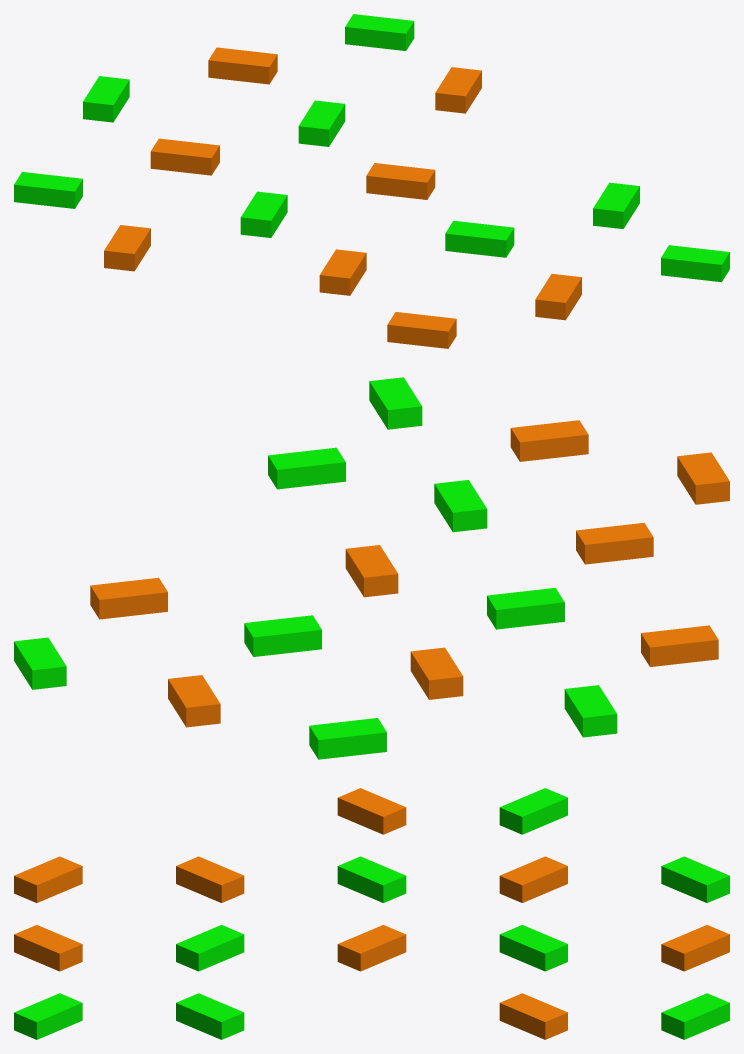
File: bekkering_small_v1.dae
3 views of the same model, one above another, from view 1: azimuth 30°, elevation 25°; view 2: azimuth 150°, elevation 25°; view 3: azimuth 270°, elevation 25° (orthographic). The views are drawn at different scales.
Parts seen in each view (by area): view 1: Cube.019, Cube.020, Cube.018, Cube.017, Cube.023, Cube.021, Cube.022, Cube.014, Cube.002, Cube.007, Cube.011, Cube.001 (+4 smaller); view 2: Cube.015, Cube.009, Cube.010, Cube.002, Cube.011, Cube.007, Cube.024, Cube.001, Cube.022, Cube.014, Cube.019, Cube.018 (+4 smaller); view 3: Cube.010, Cube.007, Cube.019, Cube.023, Cube.014, Cube.009, Cube.002, Cube.024, Cube.022, Cube.021, Cube.020, Cube.018 (+4 smaller).
Boxes of the visible parts, x1,y1,x2,y2 form: Cube.019: (366, 163, 435, 199); Cube.020: (208, 47, 277, 84); Cube.018: (150, 138, 219, 175); Cube.017: (387, 312, 456, 348); Cube.023: (345, 14, 414, 50); Cube.021: (445, 220, 514, 257); Cube.022: (14, 172, 82, 208); Cube.014: (661, 245, 729, 282); Cube.002: (298, 100, 345, 146); Cube.007: (240, 191, 287, 237); Cube.011: (319, 249, 366, 295); Cube.001: (435, 67, 481, 113); Cube.015: (510, 420, 588, 461); Cube.009: (268, 447, 345, 489); Cube.010: (641, 625, 718, 666); Cube.002: (244, 615, 321, 656); Cube.011: (576, 522, 653, 564); Cube.007: (487, 588, 564, 629); Cube.024: (309, 718, 386, 759); Cube.001: (90, 577, 167, 619); Cube.022: (564, 685, 617, 737); Cube.014: (369, 377, 422, 429); Cube.019: (345, 545, 398, 597); Cube.018: (410, 647, 463, 699); Cube.010: (337, 788, 406, 834); Cube.007: (337, 856, 406, 902); Cube.019: (337, 925, 406, 971); Cube.023: (661, 993, 729, 1039); Cube.014: (14, 993, 82, 1039); Cube.009: (176, 993, 244, 1039); Cube.002: (499, 925, 567, 971); Cube.024: (661, 856, 729, 902); Cube.022: (499, 788, 567, 834); Cube.021: (176, 925, 244, 971); Cube.020: (661, 925, 729, 971); Cube.018: (499, 856, 567, 902).
Bounding box in the file's own units: 22.91 × 29.6 × 0.8119.
